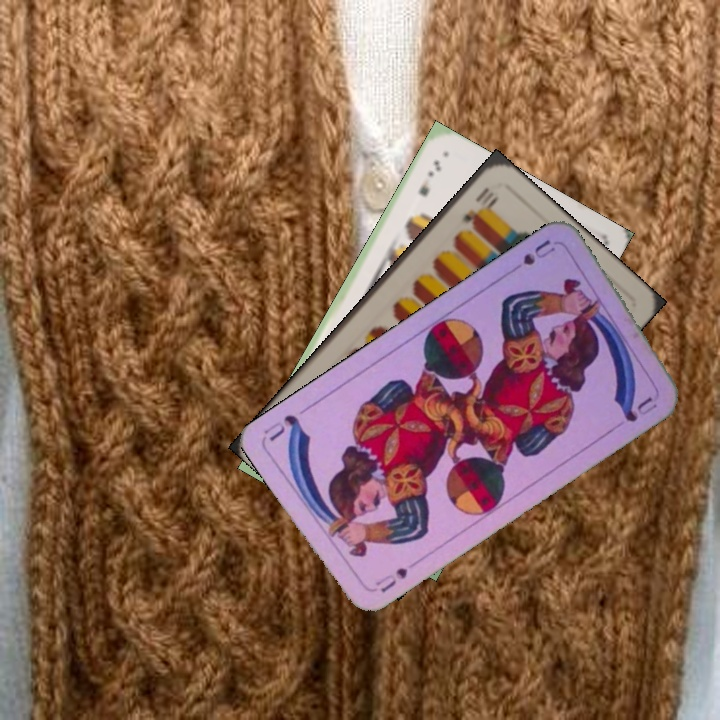E10: (457, 182, 499, 226)
E7: (414, 156, 444, 199)
SU: (504, 235, 559, 275), (367, 563, 410, 595)
